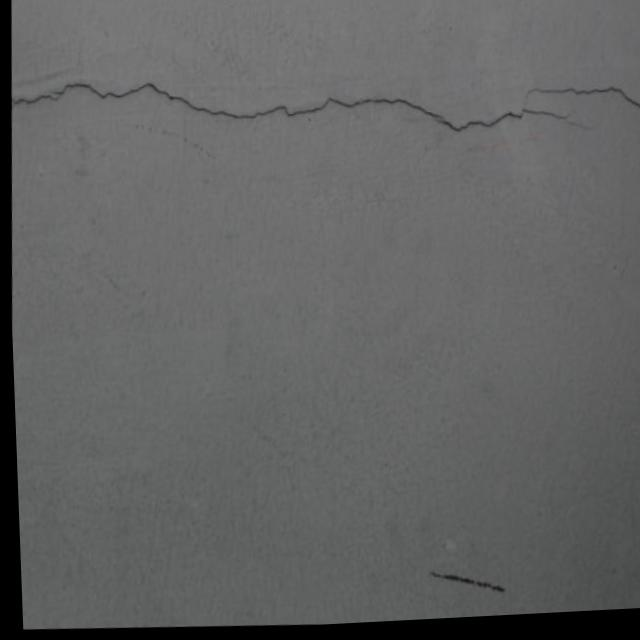Crack: (7, 41, 640, 181)
